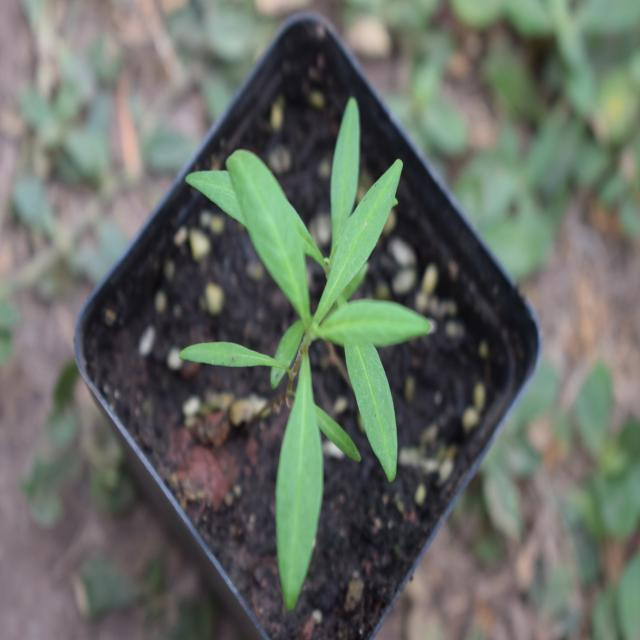white_smart_weed: (215, 94, 428, 607)
